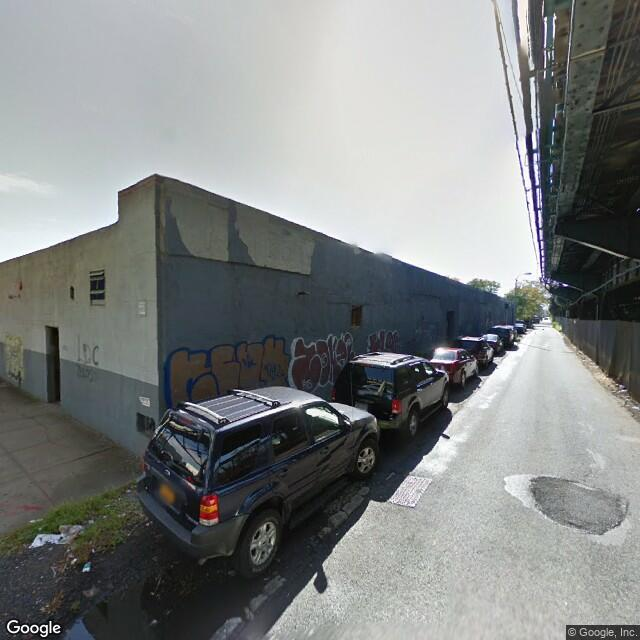litter: (26, 529, 75, 549), (58, 518, 78, 536), (79, 560, 97, 578)
